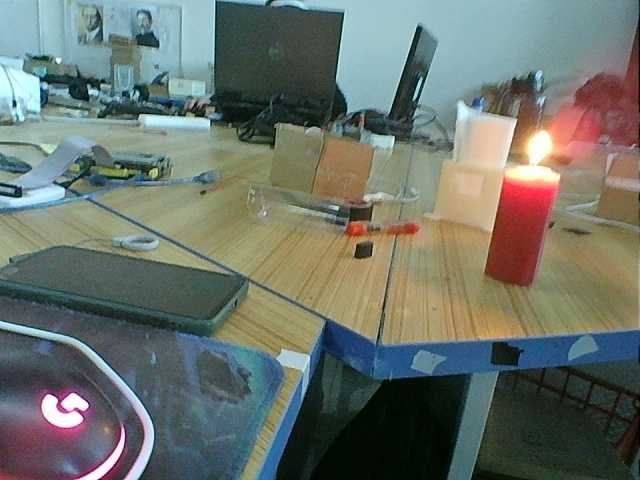candle: (477, 164, 560, 294)
fire: (505, 127, 565, 181)
